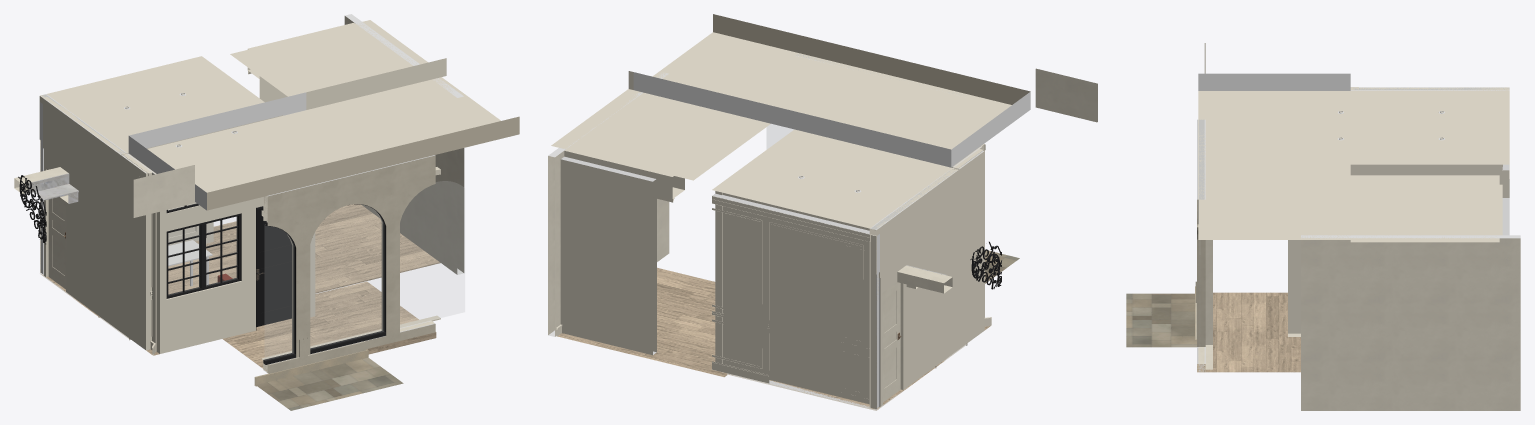
The model's file is office-west-b38cc663b7bd.glb.
3 views of the same model, side by side, from view 1: azimuth 30°, elevation 25°; view 2: azimuth 150°, elevation 25°; view 3: azimuth 270°, elevation 25° (orthographic). The views are drawn at different scales.
Parts seen in each view (by area): view 1: office-west-look-dbd60ee5c3733ed6, office-west-6a051330000fbca1, office-west-look-c9e78b9ec1bb39cd, office-west-look-2575515a05775d9e, office-west-2575515a05775d9e, office-west-look-c02a36d0521470a9, office-west-a822d30aa9e2c55a, office-west-look-5cbcc744e6f960f3, office-west-look-3b0077416469e01b, office-west-look-6a1144f4e43410bb, office-west-look-c374268555806af8, office-west-dbd60ee5c3733ed6 (+16 smaller); view 2: office-west-look-dbd60ee5c3733ed6, office-west-fca9ba73dd7496f7, office-west-look-19647d6da46c2b80, office-west-6a051330000fbca1, office-west-2575515a05775d9e, office-west-look-2575515a05775d9e, office-west-look-3b0077416469e01b, office-west-19647d6da46c2b80, office-west-look-6a1144f4e43410bb, office-west-look-34525a54e63b733b, office-west-dbd60ee5c3733ed6, office-west-80d276f58a4dc5cb (+9 smaller); view 3: office-west-look-6a1144f4e43410bb, office-west-look-dbd60ee5c3733ed6, office-west-2575515a05775d9e, office-west-look-2575515a05775d9e, office-west-look-c374268555806af8, office-west-dbd60ee5c3733ed6, office-west-look-982408871810a50e, office-west-7b11e78295c2e11d, office-west-look-c9e78b9ec1bb39cd, office-west-look-e54cb06e326b7f4f, office-west-a822d30aa9e2c55a, office-west-9cfa99552c9f4048 (+1 smaller).
Boxes of the visible parts, box(x1,y1,x2,y2) form: office-west-look-dbd60ee5c3733ed6: box(128, 77, 519, 210); office-west-6a051330000fbca1: box(39, 94, 156, 351); office-west-look-c9e78b9ec1bb39cd: box(263, 155, 435, 372); office-west-look-2575515a05775d9e: box(230, 20, 446, 109); office-west-2575515a05775d9e: box(40, 56, 282, 155); office-west-look-c02a36d0521470a9: box(310, 204, 383, 348); office-west-a822d30aa9e2c55a: box(156, 139, 307, 353); office-west-look-5cbcc744e6f960f3: box(400, 181, 464, 327); office-west-look-3b0077416469e01b: box(213, 204, 440, 293); office-west-look-6a1144f4e43410bb: box(344, 14, 464, 274); office-west-look-c374268555806af8: box(223, 281, 436, 370); office-west-dbd60ee5c3733ed6: box(128, 116, 314, 173); office-west-look-dbd60ee5c3733ed6: box(633, 14, 1030, 166); office-west-fca9ba73dd7496f7: box(722, 193, 840, 396); office-west-look-19647d6da46c2b80: box(560, 156, 656, 355); office-west-6a051330000fbca1: box(869, 146, 984, 408); office-west-2575515a05775d9e: box(712, 129, 958, 228); office-west-look-2575515a05775d9e: box(551, 71, 770, 180); office-west-look-3b0077416469e01b: box(557, 267, 727, 377); office-west-19647d6da46c2b80: box(712, 193, 869, 407); office-west-look-6a1144f4e43410bb: box(548, 72, 669, 336); office-west-look-34525a54e63b733b: box(1035, 68, 1097, 122); office-west-dbd60ee5c3733ed6: box(794, 105, 983, 167); office-west-80d276f58a4dc5cb: box(883, 283, 900, 402); office-west-look-6a1144f4e43410bb: box(1301, 235, 1520, 410); office-west-look-dbd60ee5c3733ed6: box(1198, 73, 1350, 239); office-west-2575515a05775d9e: box(1350, 87, 1509, 164); office-west-look-2575515a05775d9e: box(1350, 175, 1499, 242); office-west-look-c374268555806af8: box(1197, 292, 1300, 372); office-west-dbd60ee5c3733ed6: box(1288, 90, 1350, 164); office-west-look-982408871810a50e: box(1126, 293, 1196, 347); office-west-7b11e78295c2e11d: box(1288, 161, 1502, 336); office-west-look-c9e78b9ec1bb39cd: box(1197, 119, 1205, 371); office-west-look-e54cb06e326b7f4f: box(1205, 240, 1212, 369); office-west-a822d30aa9e2c55a: box(1288, 91, 1295, 333); office-west-9cfa99552c9f4048: box(1350, 164, 1478, 169).
Bounding box in the file's own units: 6.87 × 3.92 × 6.21.
29 materials, 8 textured.
